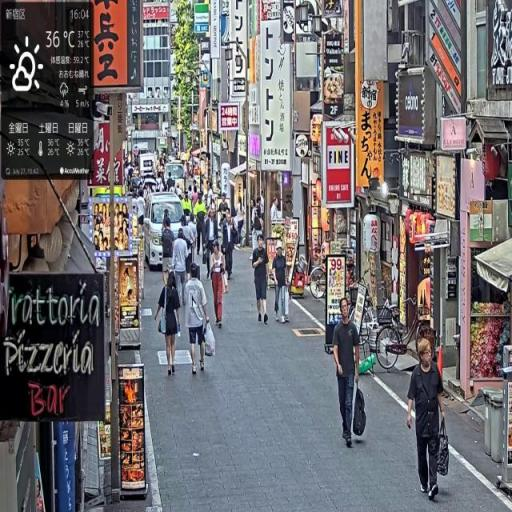person: (407, 339, 448, 503), (331, 299, 362, 451), (185, 262, 214, 377), (156, 270, 183, 378), (209, 243, 231, 332), (252, 232, 271, 329), (273, 241, 291, 323), (222, 212, 239, 287), (204, 208, 219, 274)
